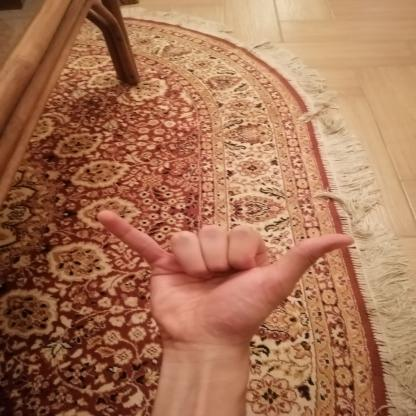YA: (79, 197, 368, 356)
